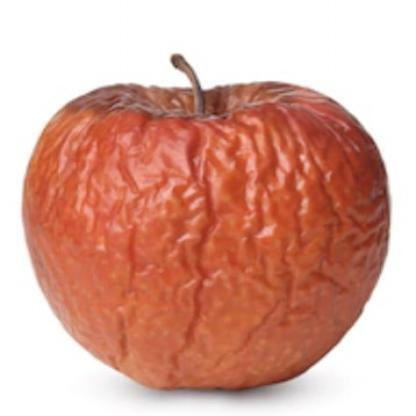apple_rotten: (15, 41, 399, 398)
